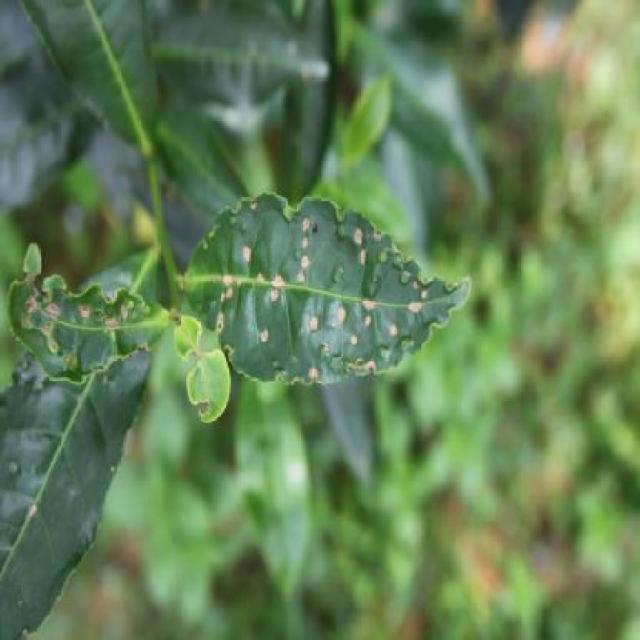Tea Mosquito bug infested leaf: (182, 191, 460, 386), (5, 254, 166, 389)
